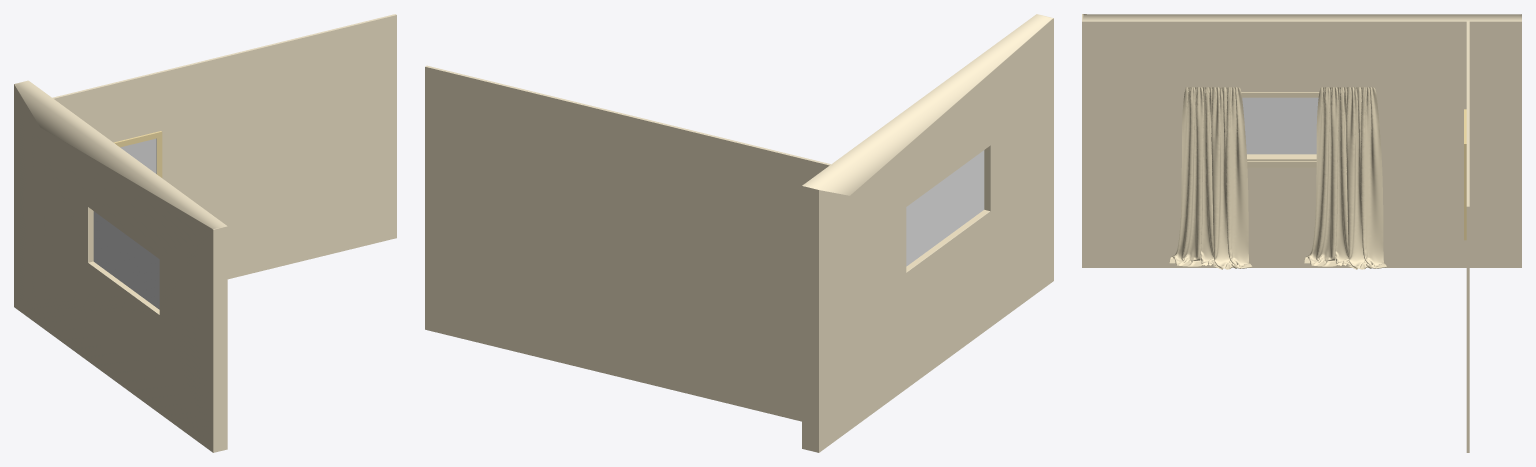
The model's file is M_Paredes.fbx.
3 views of the same model, side by side, from view 1: azimuth 30°, elevation 25°; view 2: azimuth 150°, elevation 25°; view 3: azimuth 270°, elevation 25° (orthographic). The views are drawn at different scales.
Parts seen in each view (by area): view 1: pared_plana, pared_ventana, vidrio, pPlane1, cuadro; view 2: pared_plana, pared_ventana, vidrio; view 3: pared_ventana, curtain, curtain_2:curtain, vidrio, pared_plana.
Boxes of the visible parts, left/top/right/bottom form: pared_plana: left=51, top=14, right=396, bottom=279; pared_ventana: left=14, top=80, right=227, bottom=452; vidrio: left=93, top=211, right=159, bottom=309; pPlane1: left=120, top=138, right=156, bottom=173; cuadro: left=113, top=131, right=162, bottom=177; pared_plana: left=425, top=65, right=832, bottom=421; pared_ventana: left=802, top=14, right=1053, bottom=452; vidrio: left=906, top=150, right=984, bottom=266; pared_ventana: left=1082, top=14, right=1521, bottom=267; curtain: left=1304, top=87, right=1386, bottom=269; curtain_2:curtain: left=1169, top=87, right=1252, bottom=269; vidrio: left=1242, top=97, right=1318, bottom=154; pared_plana: left=1466, top=21, right=1469, bottom=452.
Size of the model in its own units: 76.98 by 45.86 by 74.24.
